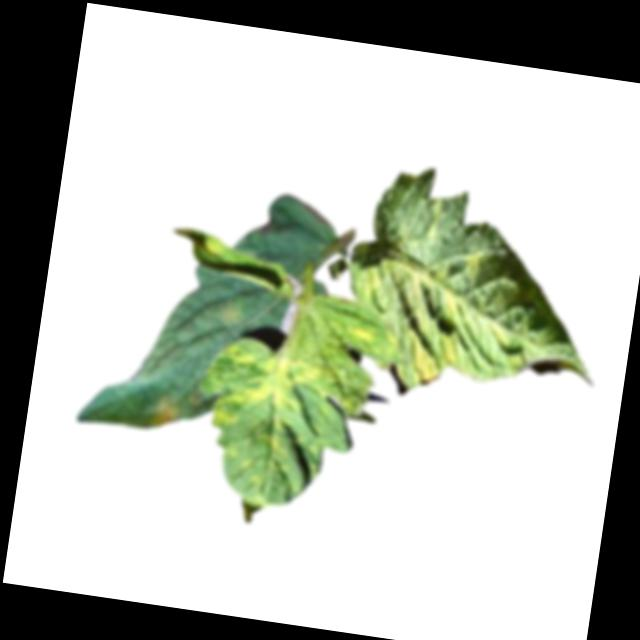Leaf_Mold: (188, 333, 335, 519), (382, 279, 472, 391), (151, 395, 184, 432), (342, 321, 380, 353), (214, 301, 245, 333), (459, 251, 484, 283)
